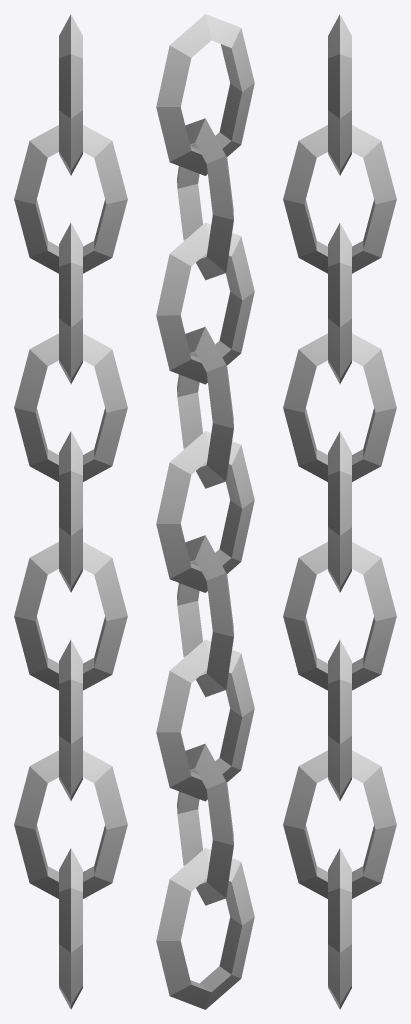
Rendered from Anchor_Chain_NineParts_A.fbx.
The picture shows the model from 3 angles, left to right: view 1: azimuth 90°, elevation 25°; view 2: azimuth 210°, elevation 25°; view 3: azimuth 270°, elevation 25°; orthographic projection.
Visible parts, largest first — view 1: Anchor_Chain_NineParts_A; view 2: Anchor_Chain_NineParts_A; view 3: Anchor_Chain_NineParts_A.
Part boxes in pixels (<box>): Anchor_Chain_NineParts_A: <box>14,14,127,1009</box>; Anchor_Chain_NineParts_A: <box>156,14,254,1009</box>; Anchor_Chain_NineParts_A: <box>283,14,396,1009</box>.
Size of the model in its own units: 52.47 by 506 by 52.47.
